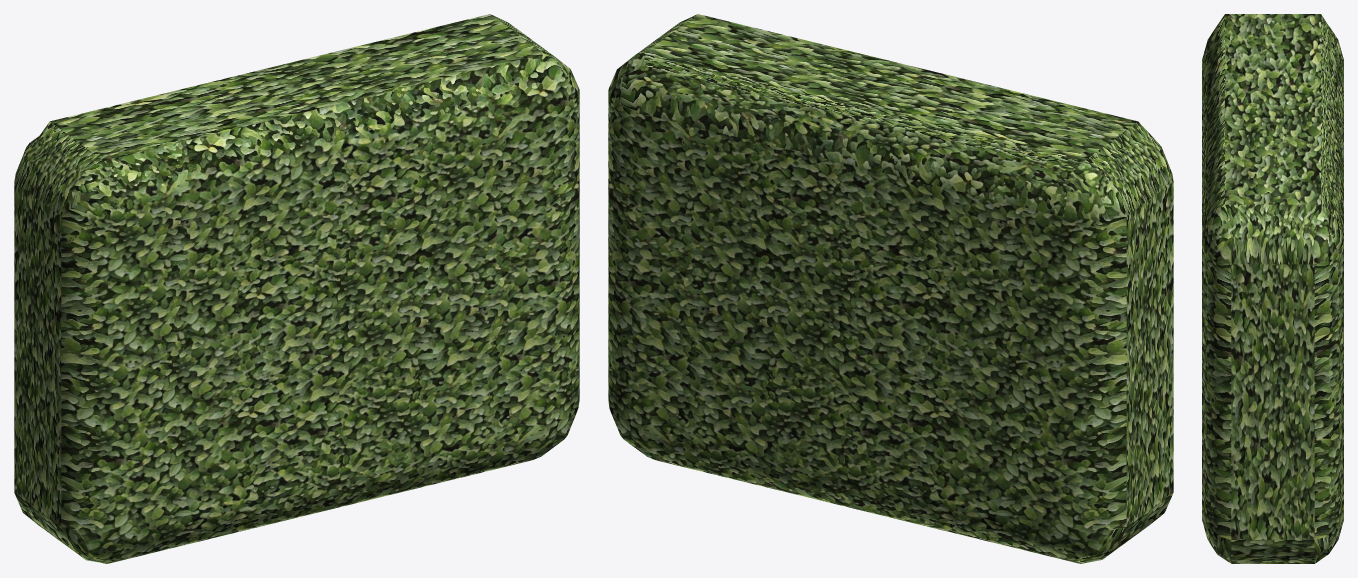
Rendered from 3dmodel_hedgewide_v1_sc.fbx.
The picture shows the model from 3 angles, left to right: view 1: azimuth 30°, elevation 25°; view 2: azimuth 150°, elevation 25°; view 3: azimuth 270°, elevation 25°; orthographic projection. The views are drawn at different scales.
Visible parts, largest first — view 1: wide_hedge; view 2: wide_hedge; view 3: wide_hedge.
Boxes of the visible parts, bbox=[...] form: wide_hedge: bbox=[14, 14, 579, 563]; wide_hedge: bbox=[608, 14, 1173, 563]; wide_hedge: bbox=[1202, 14, 1343, 563].
Bounding box in the file's own units: 20.17 × 15.14 × 5.39.
